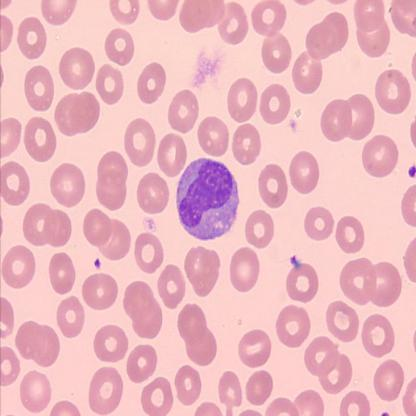Monocyte: (175, 155, 242, 242)
